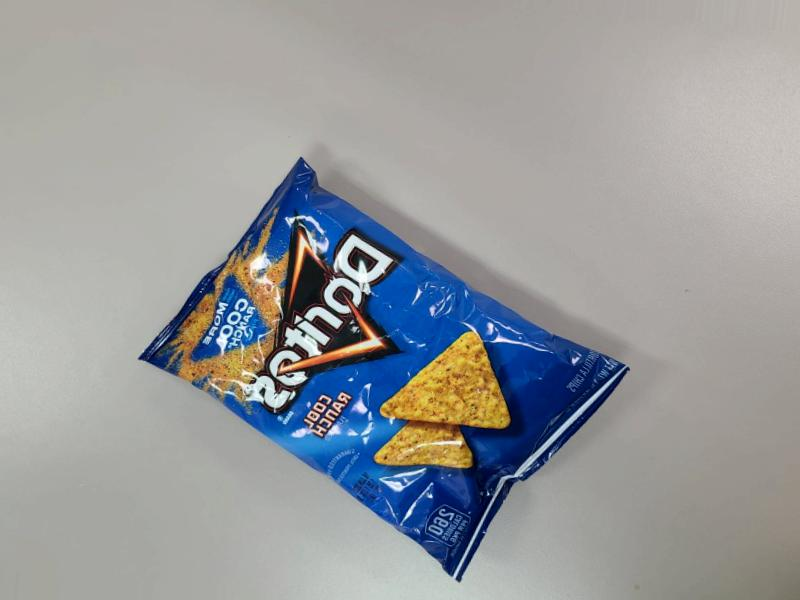doritos: (207, 122, 585, 523)
